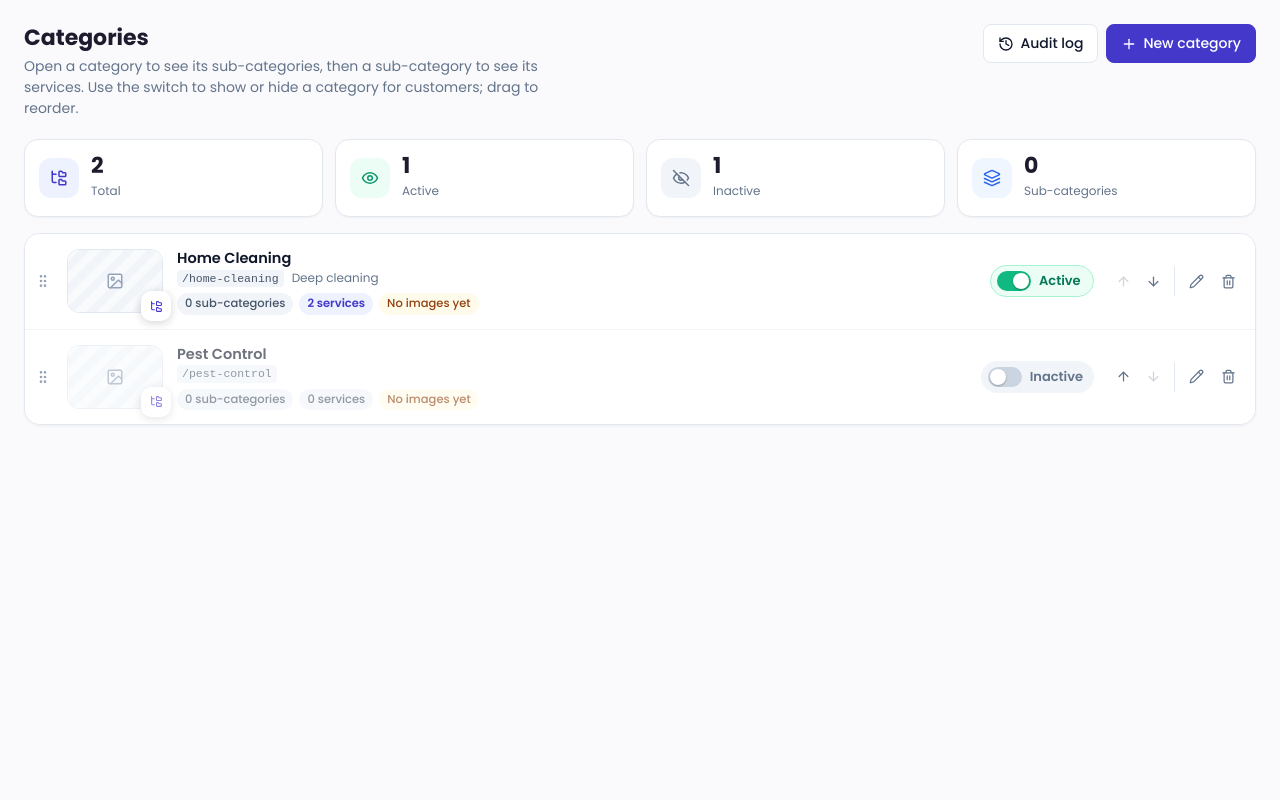
Test case: Admin categories page › creating a category sends only fields the backend accepts
Expected: the text "Home Cleaning" is shown, [177,248,291,270]
Click the button "New category".
click(1181, 44)  # box [1106,24,1256,63]
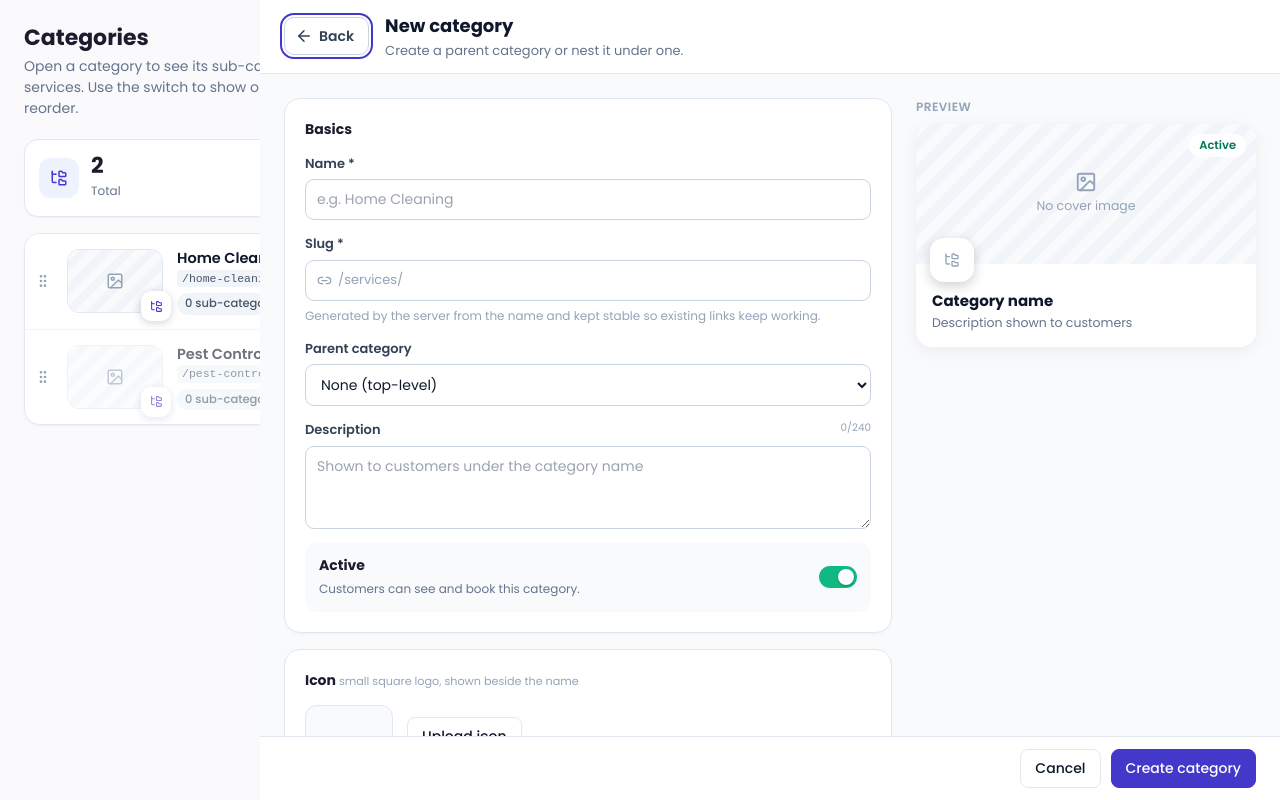
Type "Gardening" into the field labelled "Name *".
click(588, 200); type("Gardening")  # box [305,179,871,220]
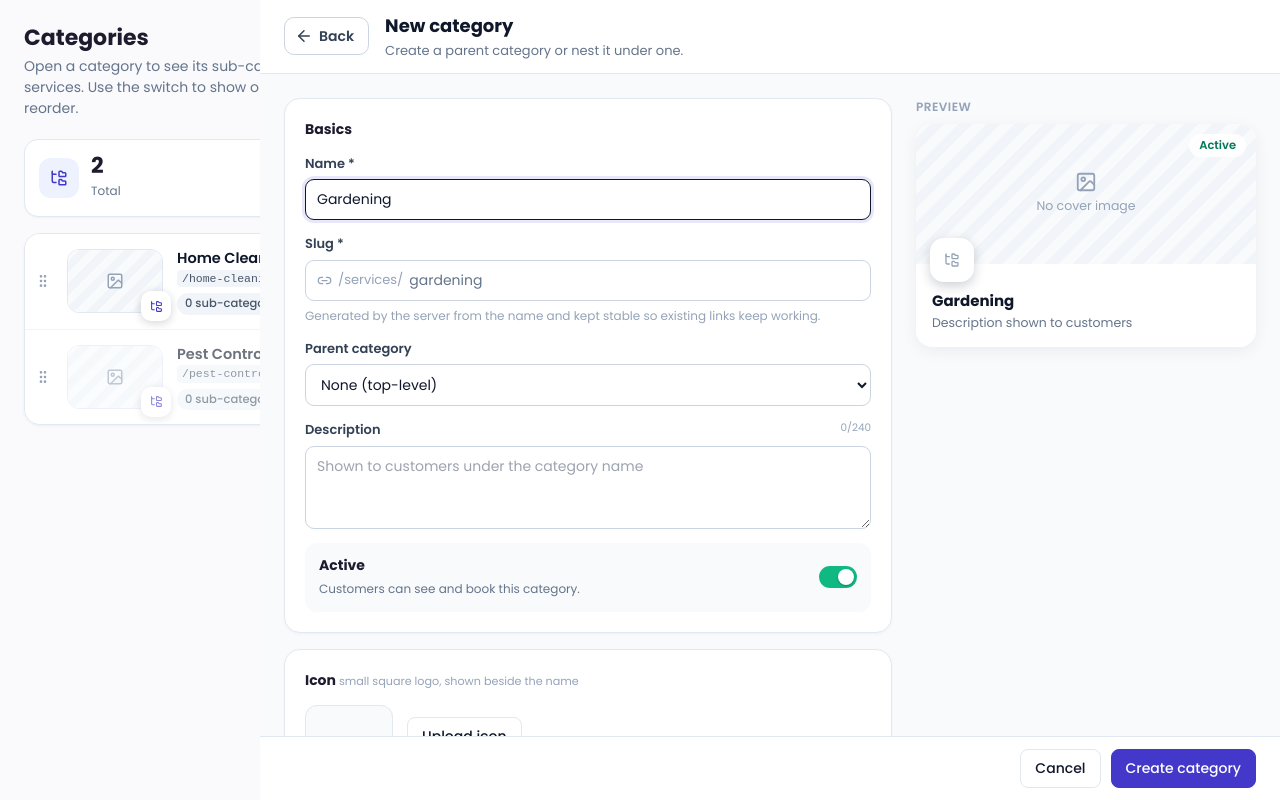
Click the button "Create category".
click(1183, 768)  # box [1110,749,1256,788]
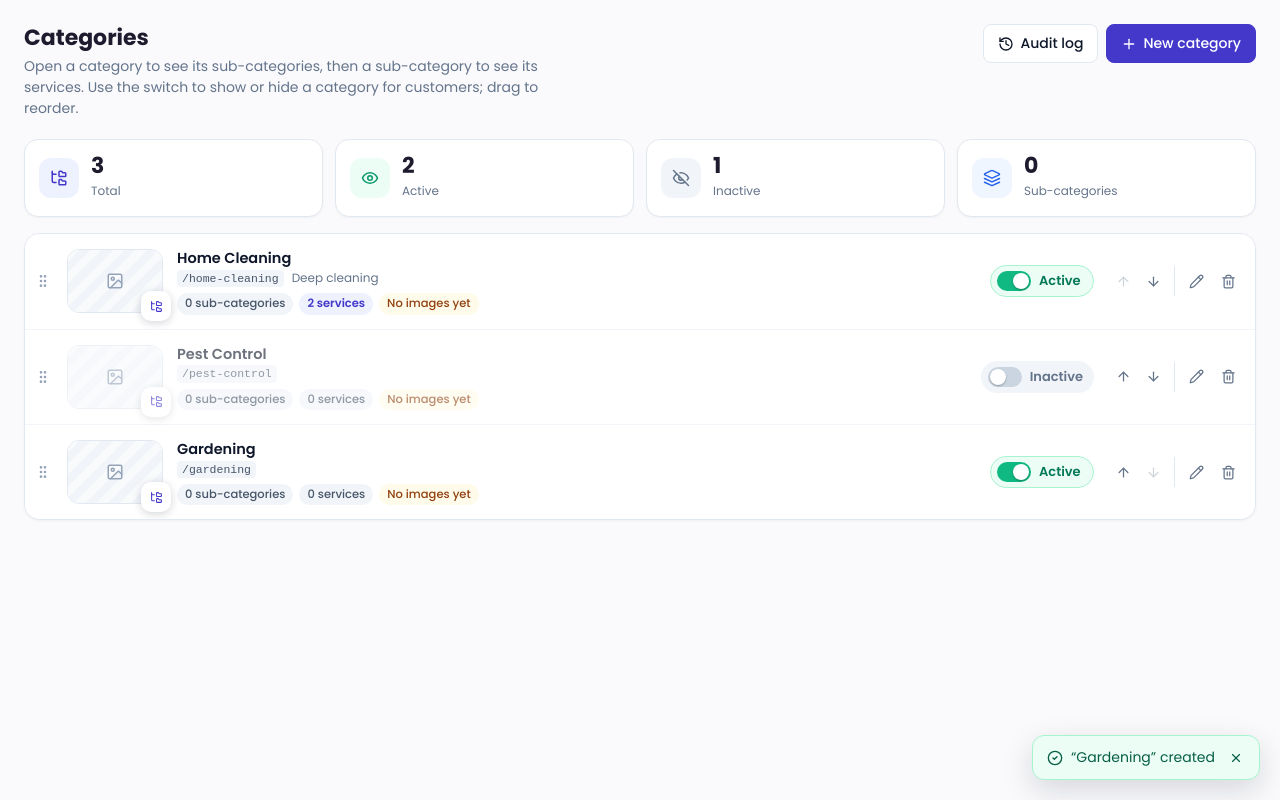
Expected: the text "Gardening" is shown, [177,439,256,461]
